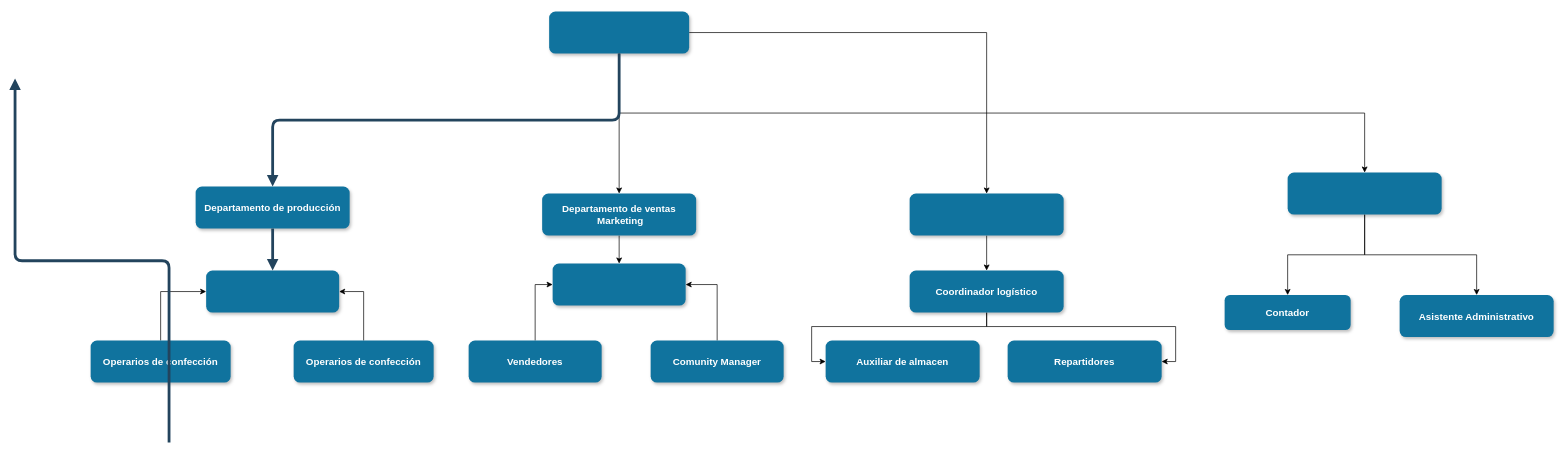
The diagram is 1565 pixels wide and 454 high, and some of its shapes have lost their labels. Each missing label, with the centre of its shape:
CEO (Berta Castillo): the point at 619,33
Coordinador de Ventas: the point at 620,285
Departamento Administrativo: the point at 1365,194
Departamento de logística: the point at 987,215
Jefe de producción: the point at 273,292
